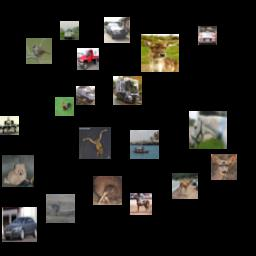airplane: (0, 116, 19, 135)
automobile: (2, 207, 37, 242), (104, 17, 130, 43), (198, 26, 217, 45), (60, 21, 79, 40)
bird: (93, 176, 122, 205), (26, 38, 52, 64), (55, 97, 74, 116)
deer: (141, 34, 179, 72), (46, 194, 75, 223), (211, 154, 237, 180), (172, 173, 198, 199)
dog: (2, 155, 34, 187)
frog: (79, 127, 111, 159)
ship: (130, 130, 159, 159)
truck: (113, 76, 142, 105), (77, 48, 99, 70), (76, 86, 95, 105)
